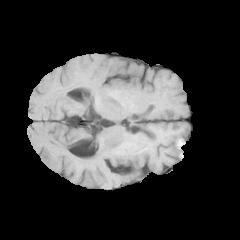glioma: (78, 133, 158, 168)
